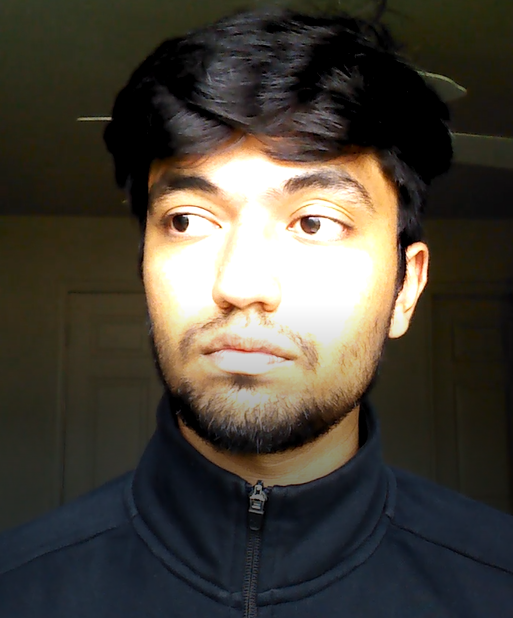Not Sleeping: (143, 171, 379, 266)
